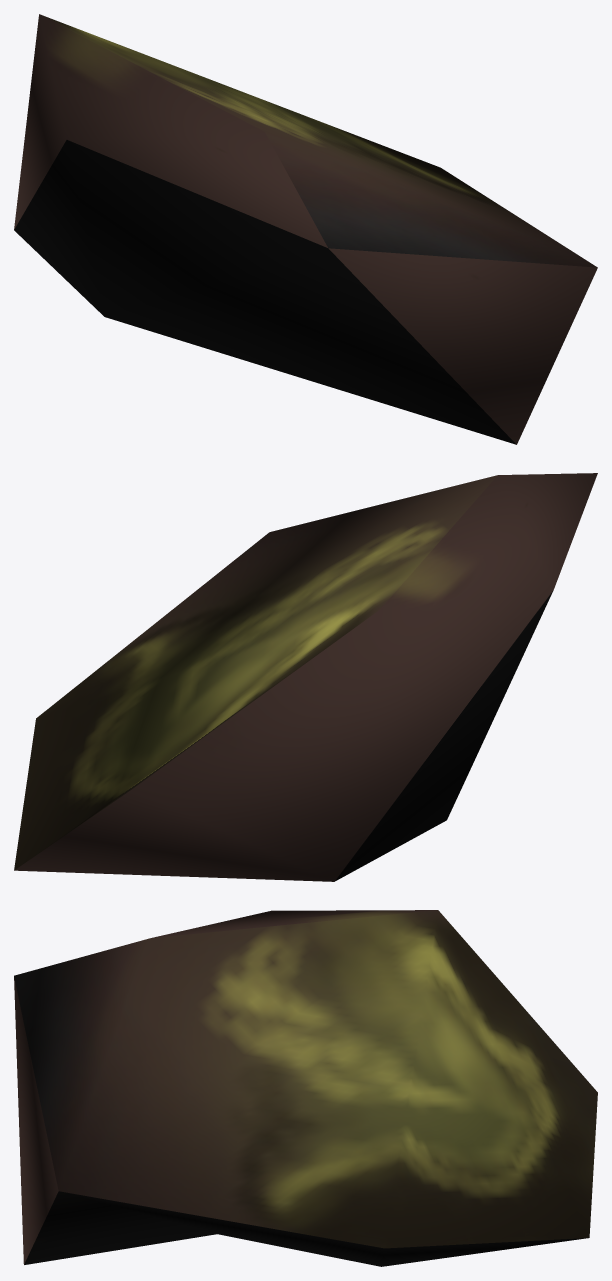
Rendered from SM_RockLagoon_01.fbx.
3 views of the same model, one above another, from view 1: azimuth 30°, elevation 25°; view 2: azimuth 150°, elevation 25°; view 3: azimuth 270°, elevation 25° (orthographic). The views are drawn at different scales.
Parts seen in each view (by area): view 1: Esfera.012; view 2: Esfera.012; view 3: Esfera.012.
Part boxes in pixels (x1,y1,x2,y2): Esfera.012: (14,14,597,444); Esfera.012: (14,473,597,881); Esfera.012: (14,910,597,1266).
Size of the model in its own units: 1.88 by 1.35 by 2.56.
Materials: 1 (1 with a texture image).
